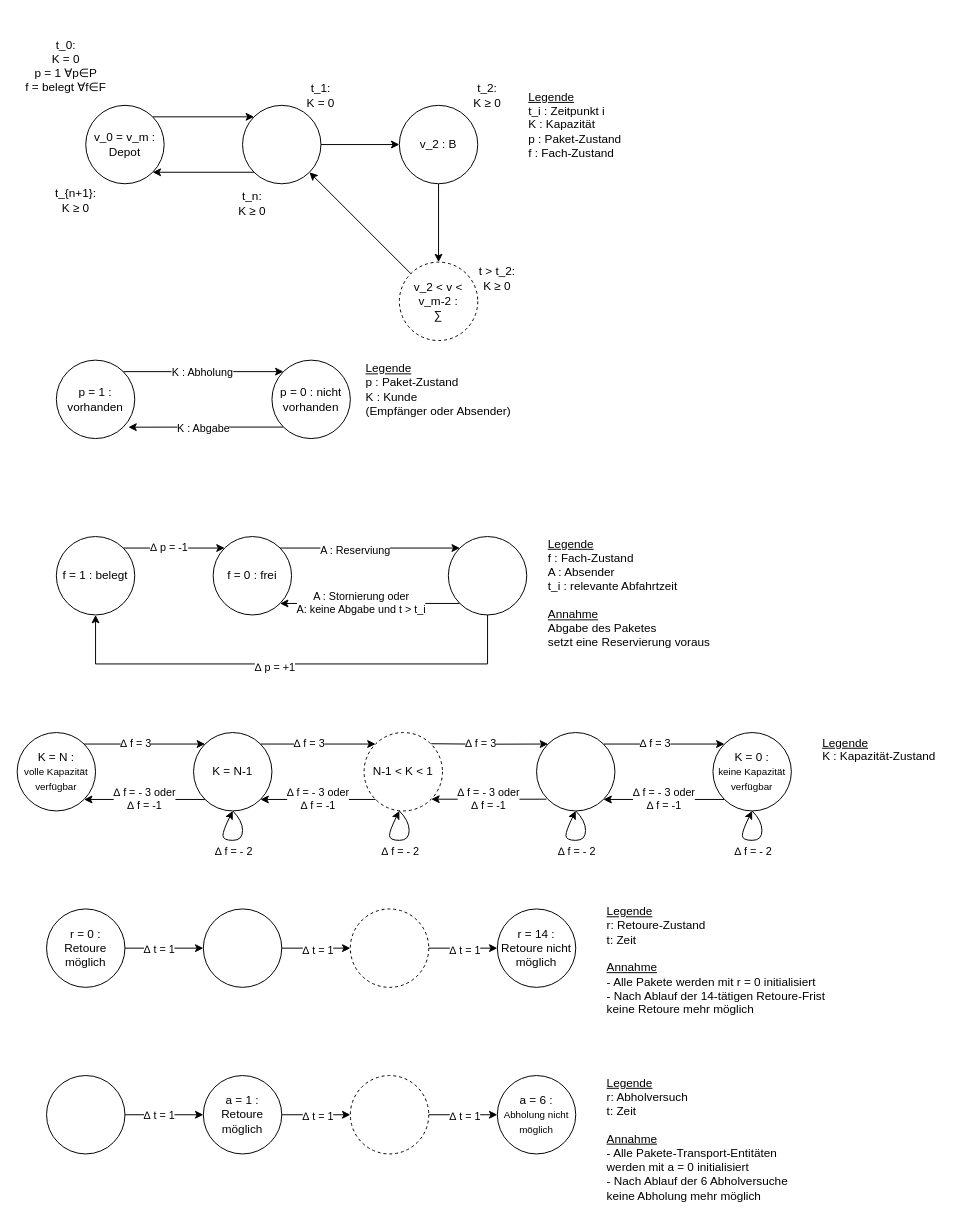
Some shapes in this 965 by 1219 pixel diagram are drawn without their labels. The shapes that lost their labels are listed below. From the top down, each one's box as (x1, y1, x2, y2) in pixels, then its label:
(242, 104, 321, 184): v_1 = v_{m-1} : A
(447, 536, 527, 615): f = 3: reserviert
(536, 732, 615, 811): K = 1
(202, 908, 282, 987): r = 1 : Retoure möglich
(349, 908, 429, 987): 1 < r < 14
(46, 1075, 125, 1154): a = 0 : Abholung möglich
(349, 1075, 429, 1154): 1 < a < 6
